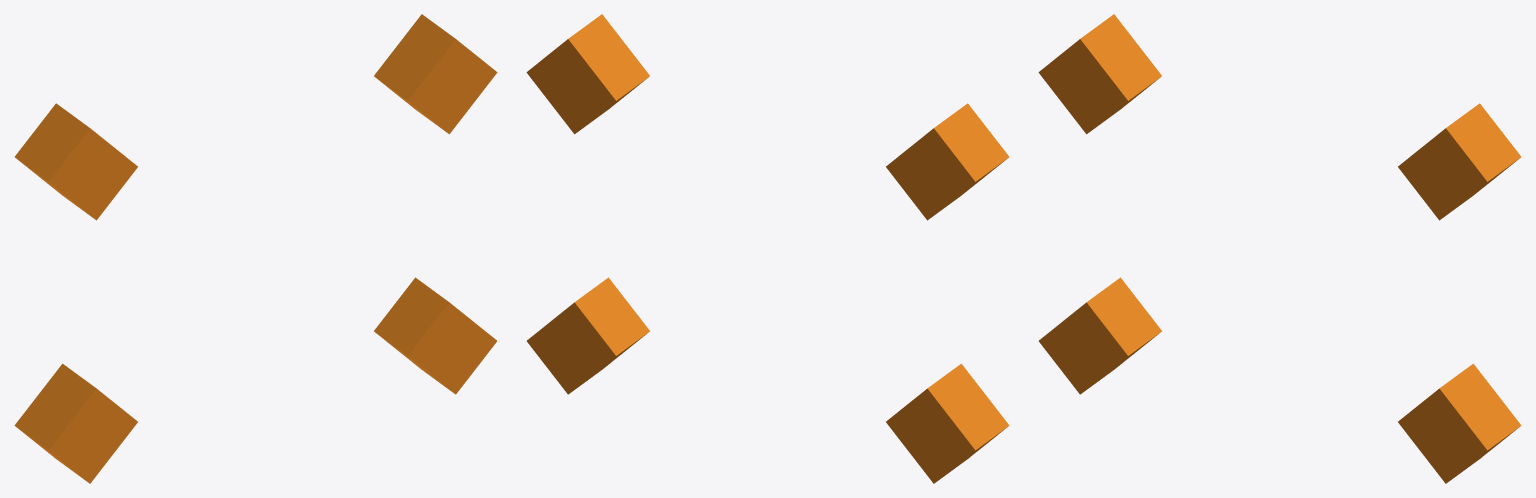
The model's file is refuge100_release.obj.
3 renders of one model, left to right at view 1: azimuth 30°, elevation 25°; view 2: azimuth 150°, elevation 25°; view 3: azimuth 330°, elevation 25°, orthographic.
Visible parts, largest first — view 1: refuge100_release; view 2: refuge100_release; view 3: refuge100_release.
Boxes of the visible parts, left/top/right/bottom form: refuge100_release: left=14, top=14, right=497, bottom=483; refuge100_release: left=526, top=14, right=1009, bottom=483; refuge100_release: left=1038, top=14, right=1521, bottom=483.
Size of the model in its own units: 1.98 by 1.5 by 0.26.
